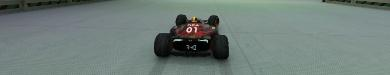Car: (153, 14, 229, 59)
grass: (0, 0, 389, 74)
obstacles-Borders: (0, 0, 112, 15), (321, 0, 389, 12)
